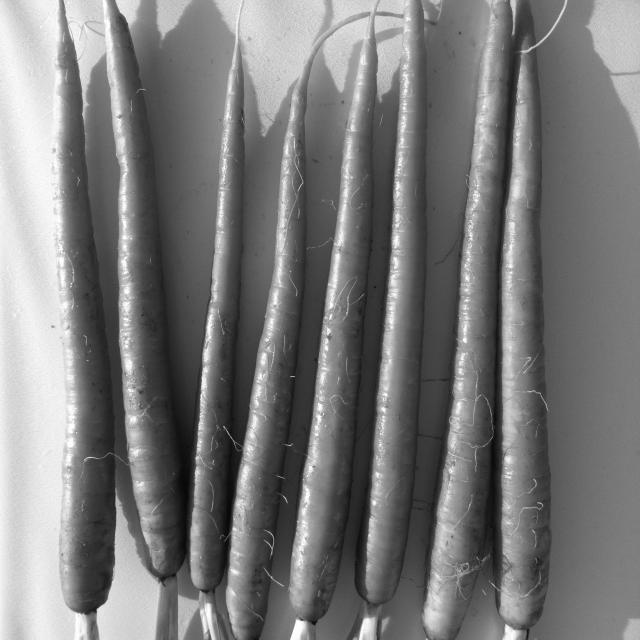Fresh_Carrot: (294, 30, 392, 640), (429, 13, 514, 640), (42, 12, 117, 596), (113, 9, 187, 582), (200, 27, 228, 584)
